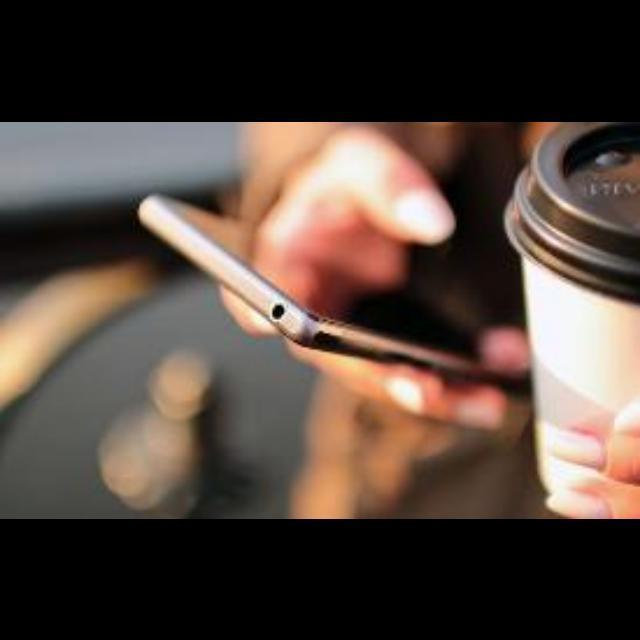PhoneUse: (136, 192, 506, 380)
